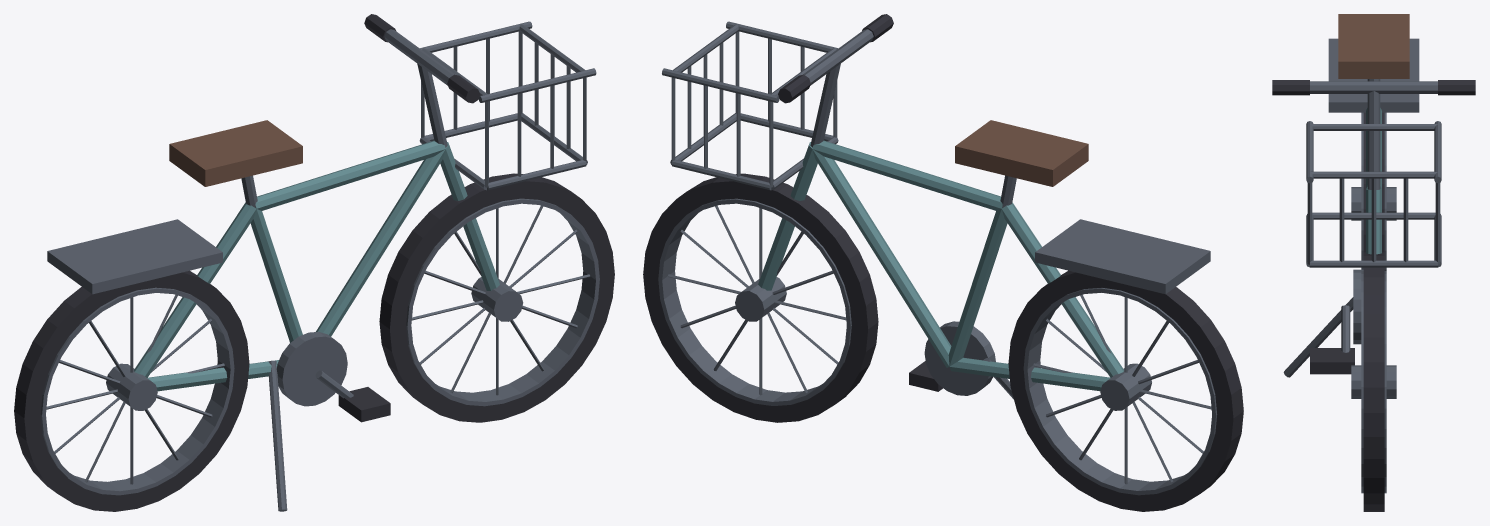
File: SM_CityBicycle.fbx
3 renders of one model, left to right at view 1: azimuth 30°, elevation 25°; view 2: azimuth 150°, elevation 25°; view 3: azimuth 270°, elevation 25°, orthographic.
Parts seen in each view (by area): view 1: SM_CityBicycle; view 2: SM_CityBicycle; view 3: SM_CityBicycle.
Part boxes in pixels (bbox=[...]): SM_CityBicycle: bbox=[14, 14, 614, 511]; SM_CityBicycle: bbox=[643, 14, 1243, 511]; SM_CityBicycle: bbox=[1272, 14, 1475, 511].
Bounding box in the file's own units: 1.81 × 0.54 × 1.13.
